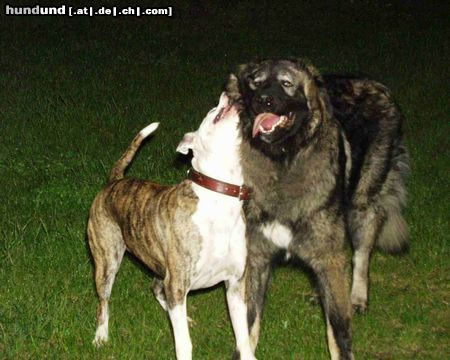cau_ovcharka: (223, 58, 416, 360)
staffordshire_bullterrier: (85, 91, 256, 360)
